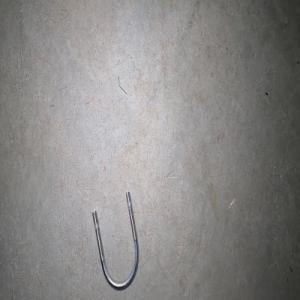ClampPart: (91, 190, 139, 291)
